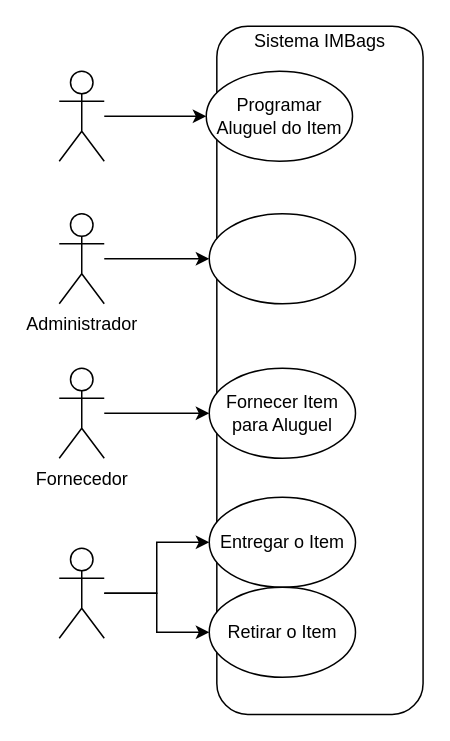
This 450x741 diagram has some shape labels left out. The centre of each missing label's shape, as x and y in pixels:
Aprovar e Administrar o Sistema: the point at 282,258
Cliente: the point at 81,115
Entregador: the point at 81,592
